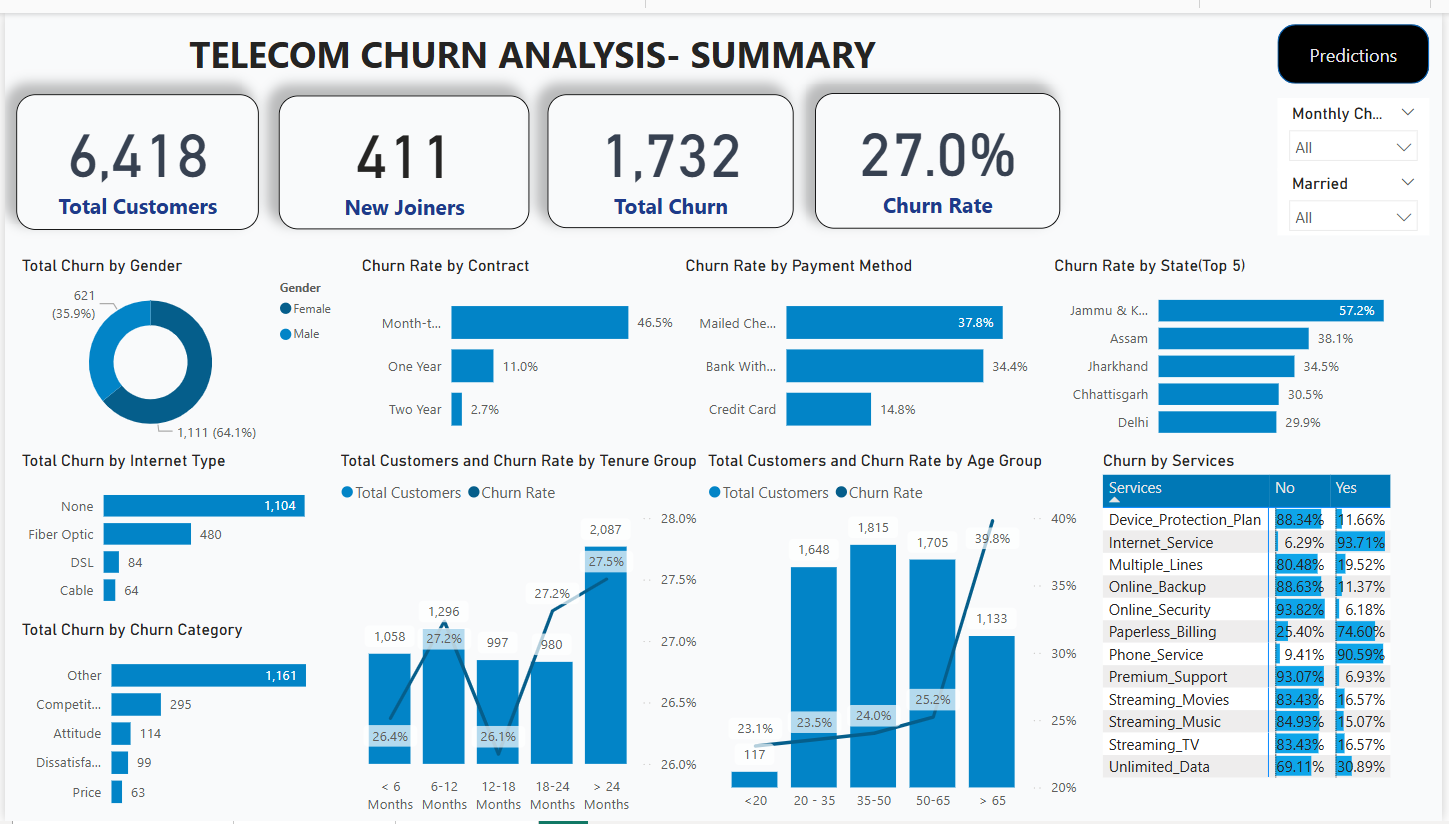

What the dashboard file says about the page in this screenshot:
{"tool":"powerbi","page":{"name":"Churn Summary","canvas":[1280,720],"ordinal":0},"visuals":[{"type":"image","box":[94.7,301.9,72.7,70],"z":0},{"type":"card","fields":{"Values":["Measure_Table.Total Customers"]},"box":[9.6,75.5,244.3,153.7],"z":1000},{"type":"card","fields":{"Values":["Measure_Table.New Joiners"]},"box":[253.9,75.5,247,153.7],"z":2000},{"type":"card","fields":{"Values":["Measure_Table.Total Churn"]},"box":[500.9,75.5,241.5,153.7],"z":3000},{"type":"card","fields":{"Values":["Measure_Table.Churn Rate"]},"box":[742.4,75.5,220.9,153.7],"z":4000},{"type":"donutChart","fields":{"Category":["prod_table.Gender"],"Y":["Measure_Table.Total Churn"]},"box":[26.1,238.8,263.5,183.9],"z":5000},{"type":"lineStackedColumnComboChart","fields":{"Category":["mapping_AgeGrp.Age Group"],"Y":["Measure_Table.Total Customers"],"Y2":["Measure_Table.Churn Rate"]},"box":[295,238.8,367.8,197.6],"z":6000},{"type":"clusteredBarChart","title":"Churn Rate by Payment Method","fields":{"Category":["prod_table.Payment_Method"],"Y":["Measure_Table.Churn Rate"]},"box":[26.1,436.4,263.5,126.2],"z":7000},{"type":"clusteredBarChart","fields":{"Category":["prod_table.Contract"],"Y":["Measure_Table.Churn Rate"]},"box":[26.1,572.2,263.5,137.2],"z":8000},{"type":"lineStackedColumnComboChart","title":"Total Customers and Churn Rate by Tenure Group","fields":{"Y":["Measure_Table.Total Customers"],"Y2":["Measure_Table.Churn Rate"],"Category":["mapping_TenureGrp.Tenure_Group"]},"box":[295,436.4,367.8,273.1],"z":9000},{"type":"barChart","title":"Churn Rate by State(Top 5)","fields":{"Category":["prod_table.State"],"Y":["Measure_Table.Churn Rate"]},"box":[672.4,259.3,266.2,177],"z":10000},{"type":"barChart","title":"Total Churn by Churn Category","fields":{"Category":["prod_table.Churn_Category"],"Y":["Measure_Table.Total Churn"]},"box":[672,458.4,266.6,261.8],"z":11000},{"type":"clusteredBarChart","title":"Total Churn by Internet Type","fields":{"Category":["prod_table.Internet_Type"],"Y":["Measure_Table.Total Churn"]},"box":[949.6,259.3,314.2,153.7],"z":12000},{"type":"pivotTable","title":"Churn by Services","fields":{"Rows":["prod_Services.Services"],"Columns":["prod_Services.Status"],"Values":["Sum(prod_Services.Churn_Status)"]},"box":[949.6,402.1,314.2,292.3],"z":13000},{"type":"slicer","fields":{"Values":["prod_table.Monthly_Charge_Status"]},"box":[621.6,9.6,199,65.9],"z":14000},{"type":"slicer","fields":{"Values":["prod_table.Married"]},"box":[505,12.3,116.6,60.4],"z":15000},{"type":"shape","box":[1145.8,9.6,135,53.5],"z":16000}]}

Visuals, with their boxes in screenshot pixels (x1, y1, x2, y2), scaled from the page's 1280x720 canvas onto the 1449x824 screenshot:
image: 107:346:190:426
card - Measure_Table.Total Customers: 11:86:287:262
card - Measure_Table.New Joiners: 287:86:567:262
card - Measure_Table.Total Churn: 567:86:840:262
card - Measure_Table.Churn Rate: 840:86:1090:262
donutChart - prod_table.Gender x Measure_Table.Total Churn: 30:273:328:484
lineStackedColumnComboChart - mapping_AgeGrp.Age Group x Measure_Table.Total Customers: 334:273:750:499
"Churn Rate by Payment Method" clusteredBarChart: 30:499:328:644
clusteredBarChart - prod_table.Contract x Measure_Table.Churn Rate: 30:655:328:812
"Total Customers and Churn Rate by Tenure Group" lineStackedColumnComboChart: 334:499:750:812
"Churn Rate by State(Top 5)" barChart: 761:297:1063:499
"Total Churn by Churn Category" barChart: 761:525:1063:823
"Total Churn by Internet Type" clusteredBarChart: 1075:297:1431:473
"Churn by Services" pivotTable: 1075:460:1431:795
slicer - prod_table.Monthly_Charge_Status: 704:11:929:86
slicer - prod_table.Married: 572:14:704:83
shape: 1297:11:1448:72
